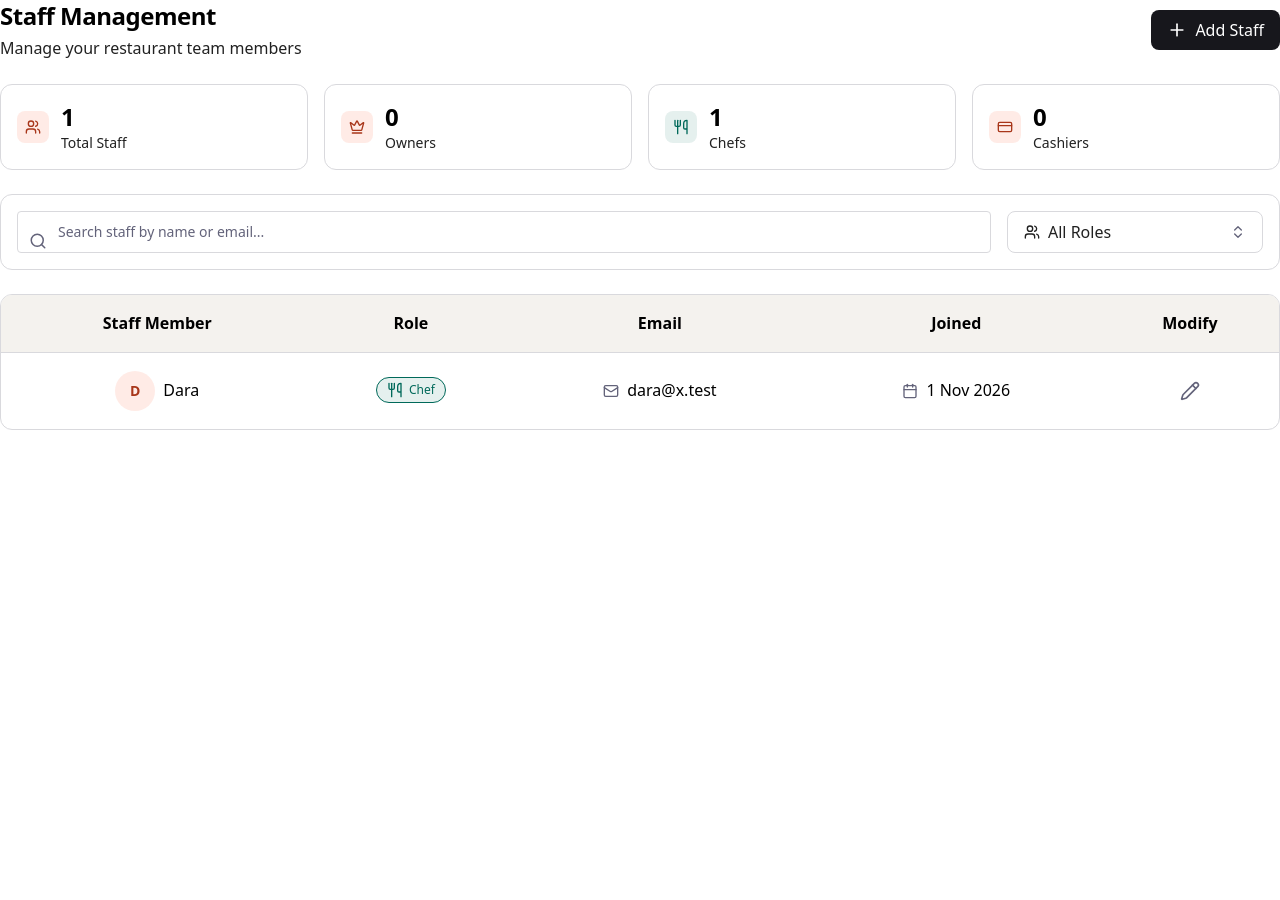
Test: changing a role the person already has (VM-18) › shows the server's answer next to the role and keeps the form open
Click the element with class "cursor-pointer".
click(1190, 391)  # box [1180,381,1200,401]
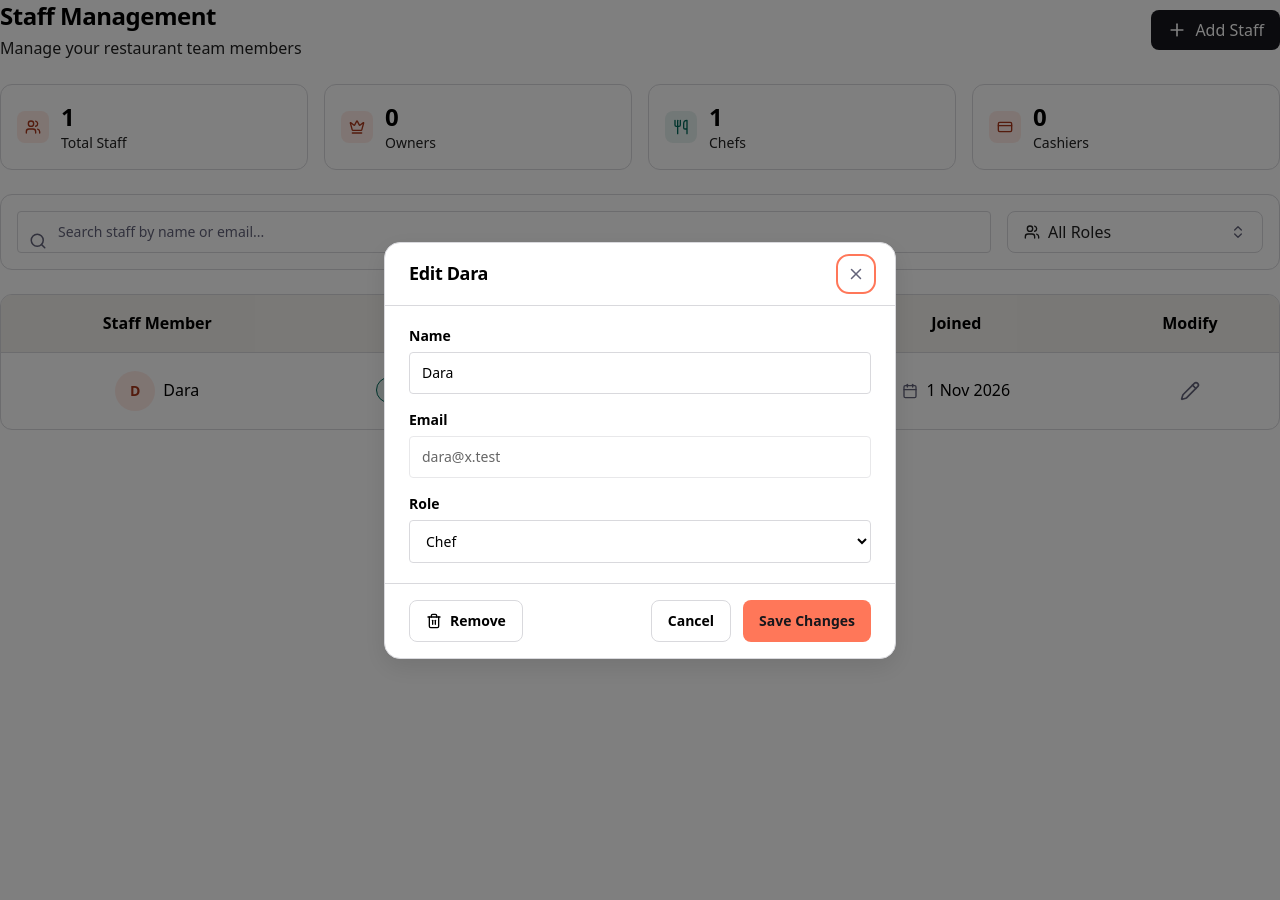
Select "Cashier" in the dropdown labelled "Role" at (640, 541), box [409,520,871,562]
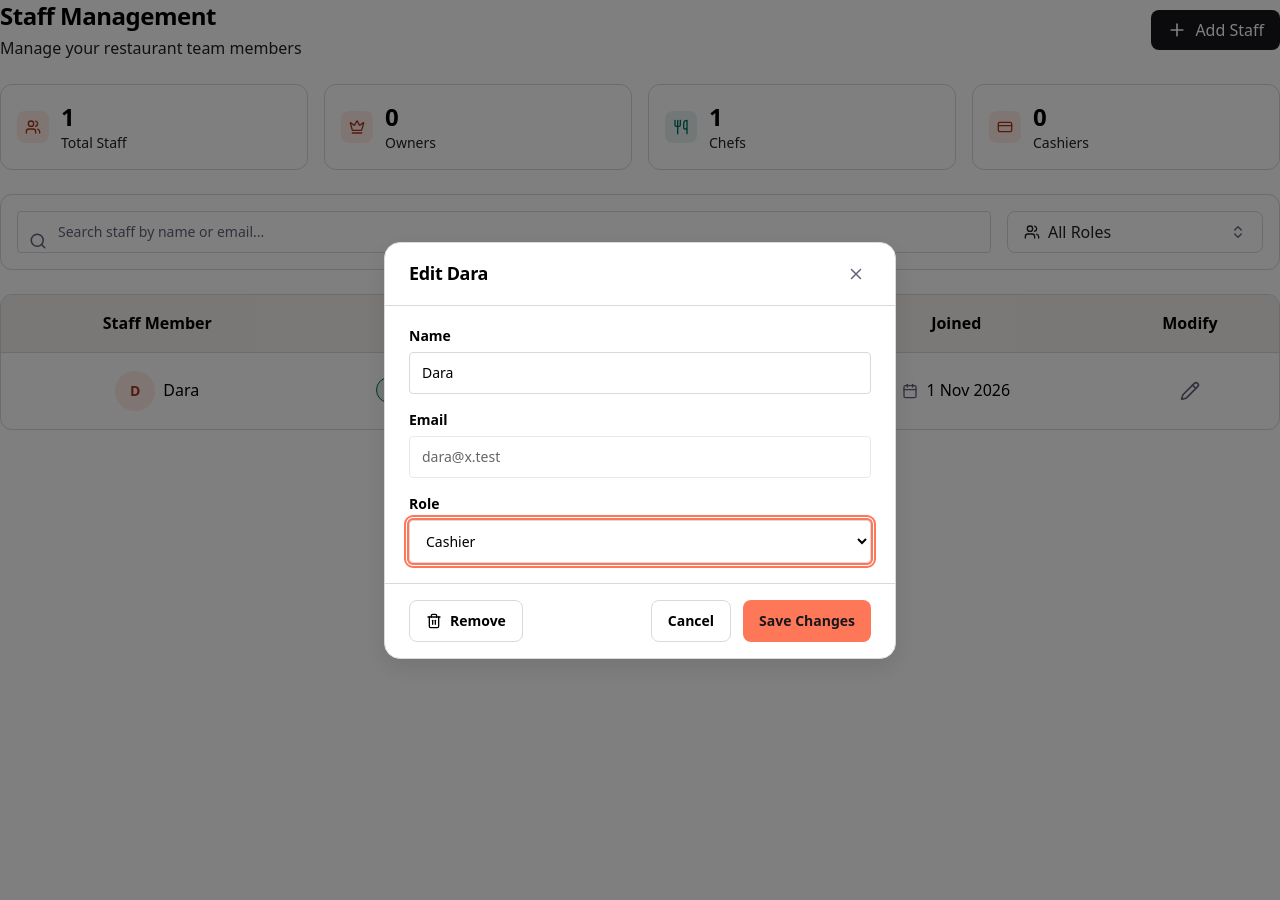
Click the button "Save Changes".
click(807, 620)  # box [743,600,871,642]
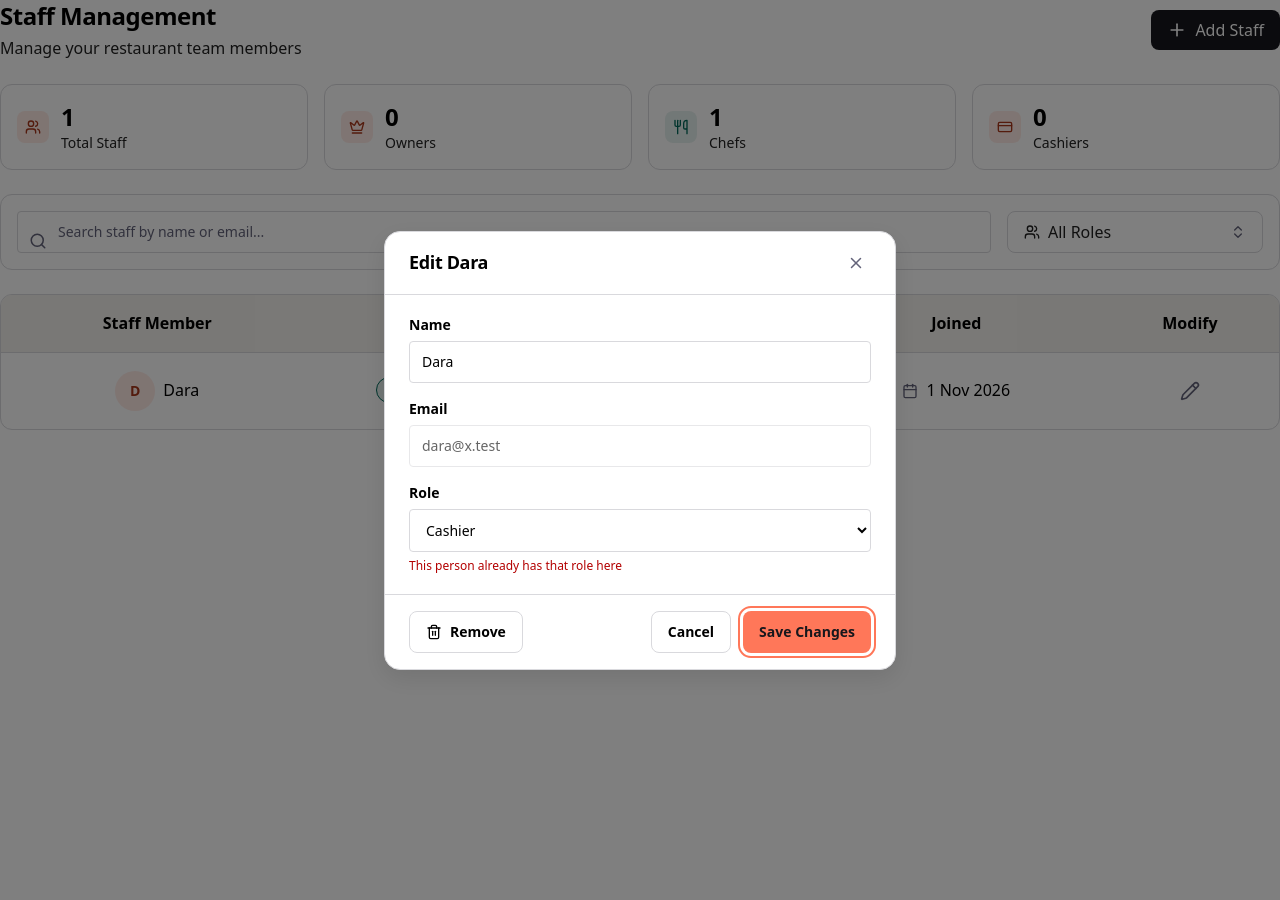
Check: the button "Save Changes" is shown, box [743,610,871,652]
Check: the text "This person already has that role here" is shown, box [409,556,622,574]
Select "Chef" in the dropdown labelled "Role" at (640, 530), box [409,508,871,552]
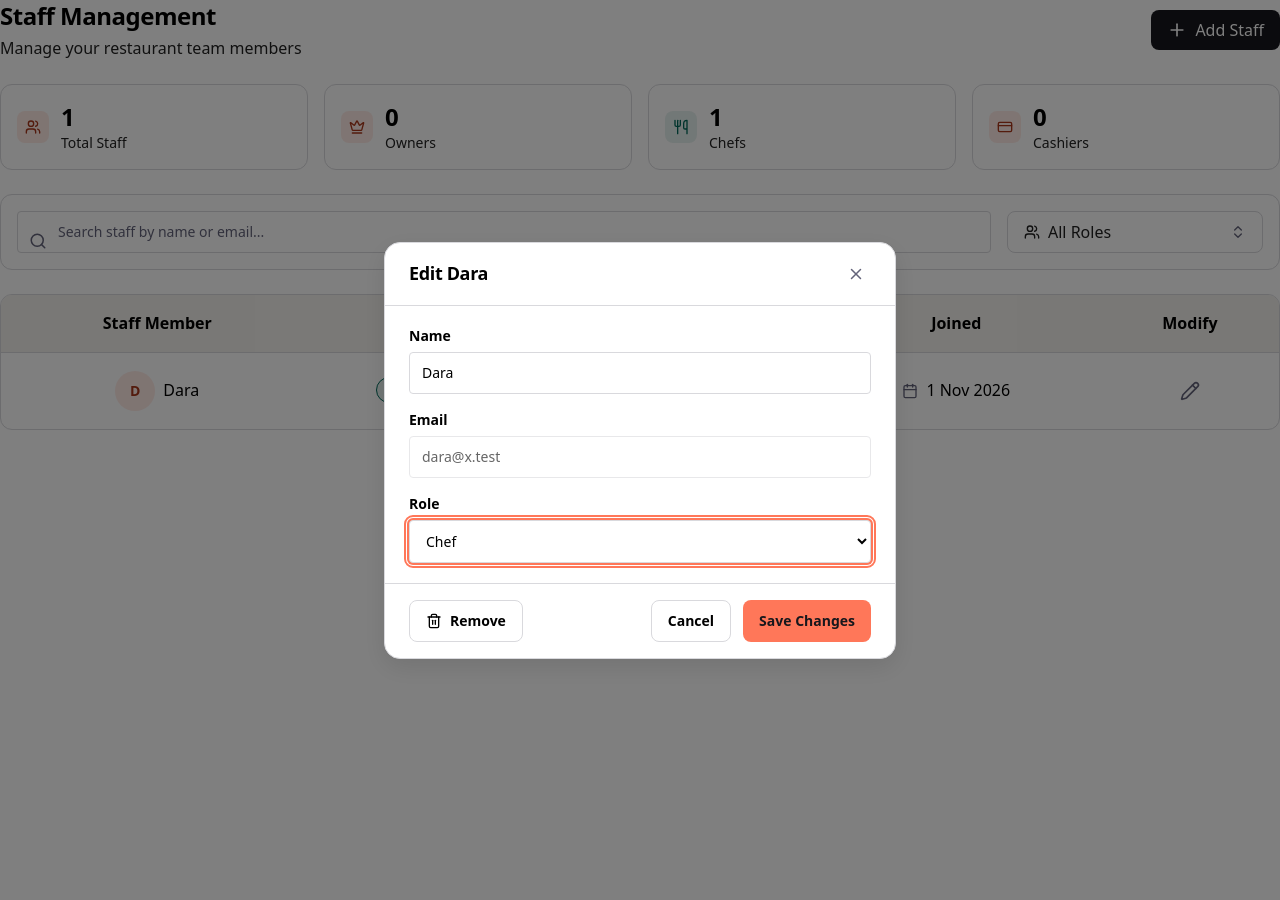
Check: the text "This person already has that role here" is gone
